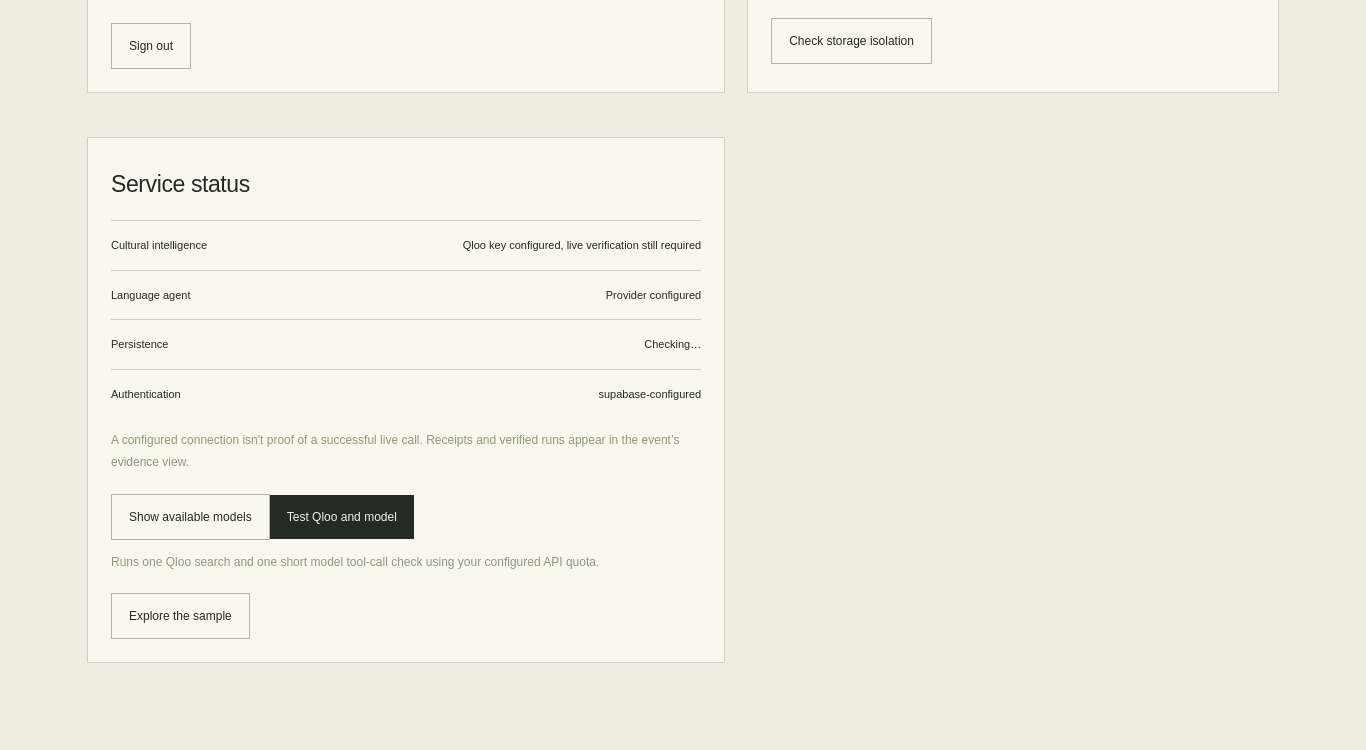
Test case: connection results remain separate from configured status and signout clears them
(page scrolled)
Expected: the button "Sign out" is shown, top-left (111, 23), bottom-right (191, 69)
What coordinates should you click on to do the following:
click the button "Test Qloo and model"
I would click on:
 (342, 516)
Its box is top-left (270, 494), bottom-right (414, 538).
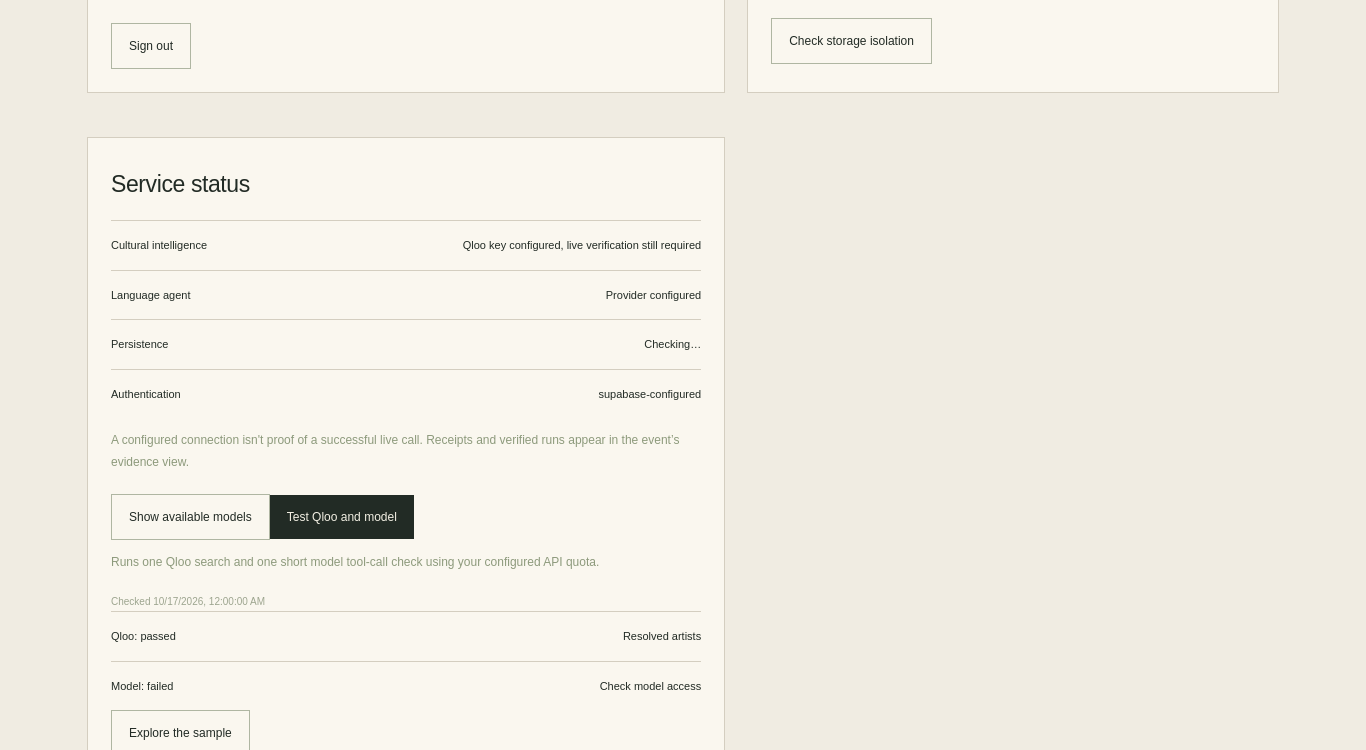
Result: the text "Qloo: passed" is shown at top-left (111, 628), bottom-right (176, 645)
Result: the text "Model: failed" is shown at top-left (111, 678), bottom-right (173, 694)
What coordinates should you click on to do the following:
click the button "Sign out"
I would click on:
 (151, 46)
Its box is top-left (111, 23), bottom-right (191, 69).
(page scrolled)
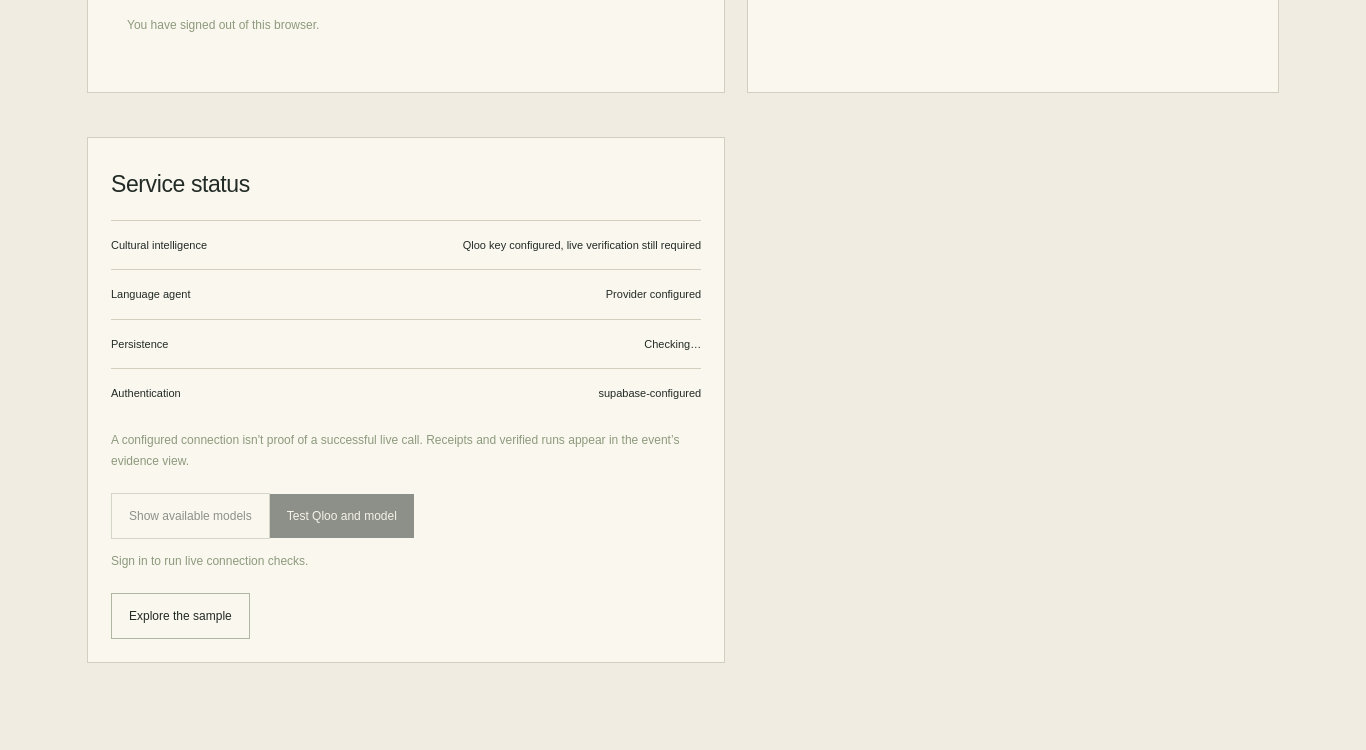
Result: the button "Test Qloo and model" is disabled at top-left (270, 494), bottom-right (414, 538)
